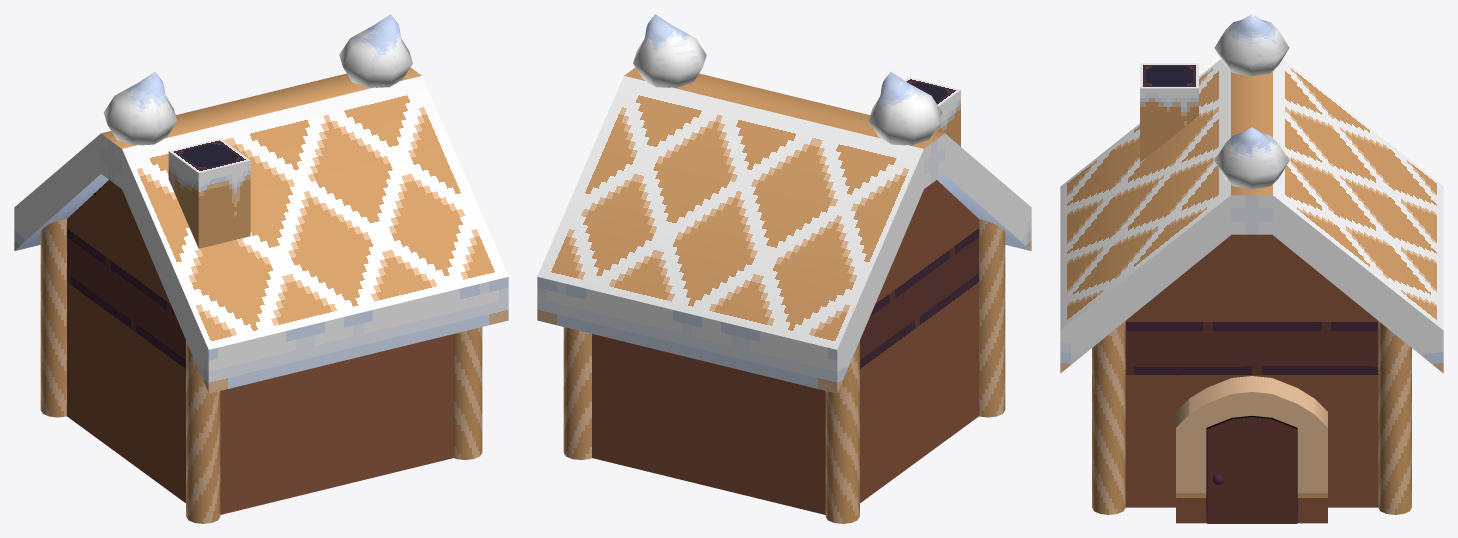
File: house.glb
3 views of the same model, side by side, from view 1: azimuth 30°, elevation 25°; view 2: azimuth 150°, elevation 25°; view 3: azimuth 270°, elevation 25° (orthographic).
Parts seen in each view (by area): view 1: Box001; view 2: Box001; view 3: Box001.
Boxes of the visible parts, <box> form: Box001: <box>14,14,508,523</box>; Box001: <box>537,14,1031,523</box>; Box001: <box>1060,14,1443,523</box>.
Size of the model in its own units: 81.22 by 90.99 by 83.13.
Materials: 1 (1 with a texture image).
